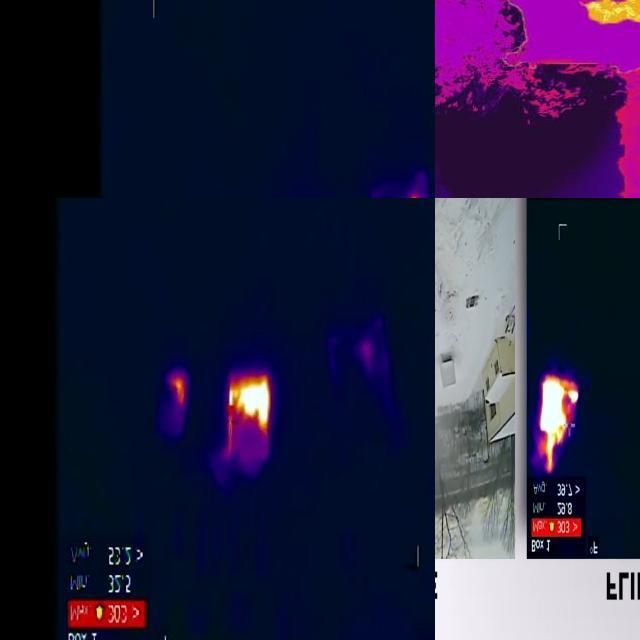fire: (228, 373, 274, 463), (540, 374, 580, 476), (575, 1, 640, 31), (168, 375, 187, 408)
